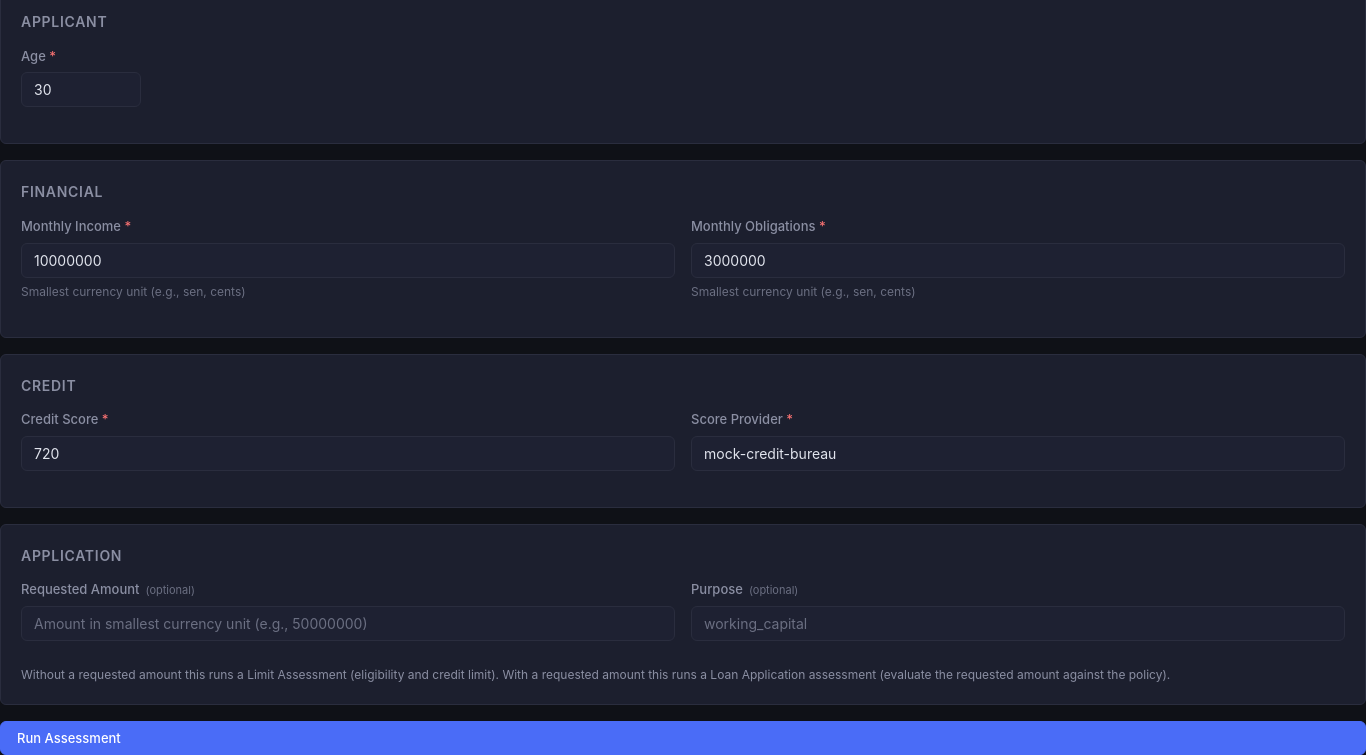
Scenario: NewAssessment (Assessment Simulator) › handles network failure
(page scrolled)
Click the button "Run Assessment" at (69, 738), box [0, 721, 1365, 754]
(page scrolled)
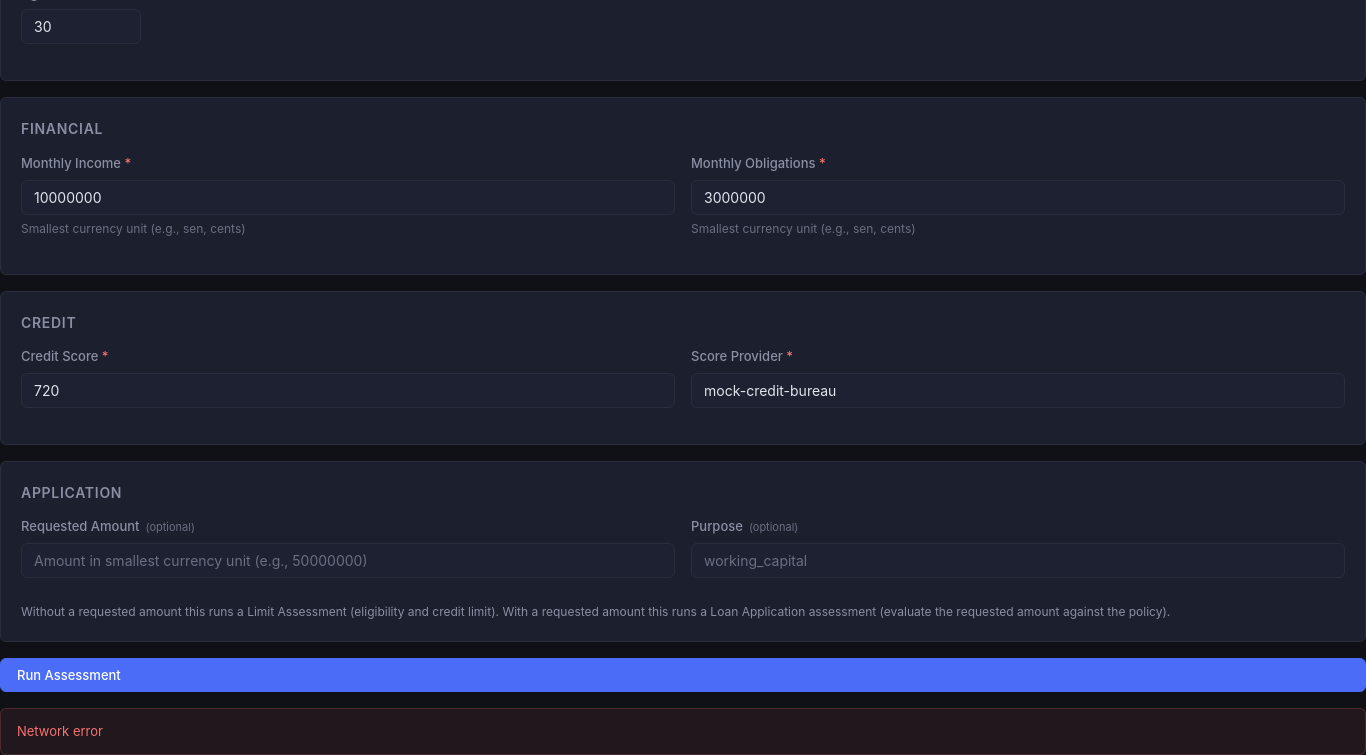
Result: the text "Network error" is shown at [0, 708, 1365, 754]
